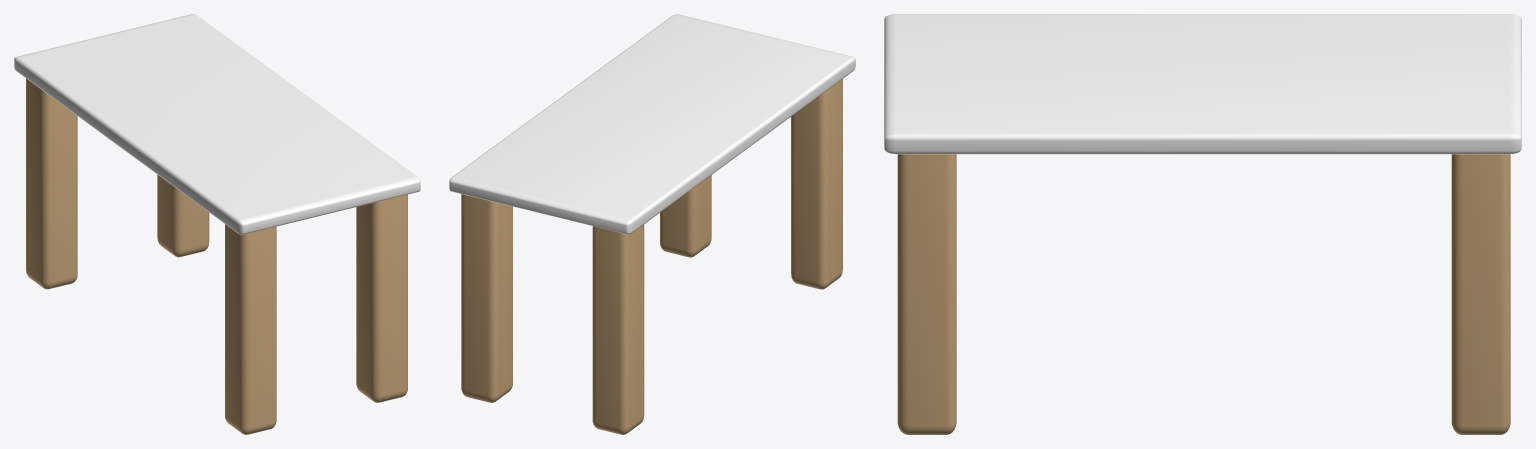
File: simple_rect_table_A.glb
The picture shows the model from 3 angles, left to right: view 1: azimuth 30°, elevation 25°; view 2: azimuth 150°, elevation 25°; view 3: azimuth 270°, elevation 25°; orthographic projection. The views are drawn at different scales.
Parts seen in each view (by area): view 1: simple_rect_table_A; view 2: simple_rect_table_A; view 3: simple_rect_table_A.
Boxes of the visible parts, x1,y1,x2,y2 form: simple_rect_table_A: (14, 14, 420, 434); simple_rect_table_A: (449, 14, 855, 434); simple_rect_table_A: (884, 14, 1521, 434).
Size of the model in its own units: 0.7488 by 0.8674 by 1.63.
